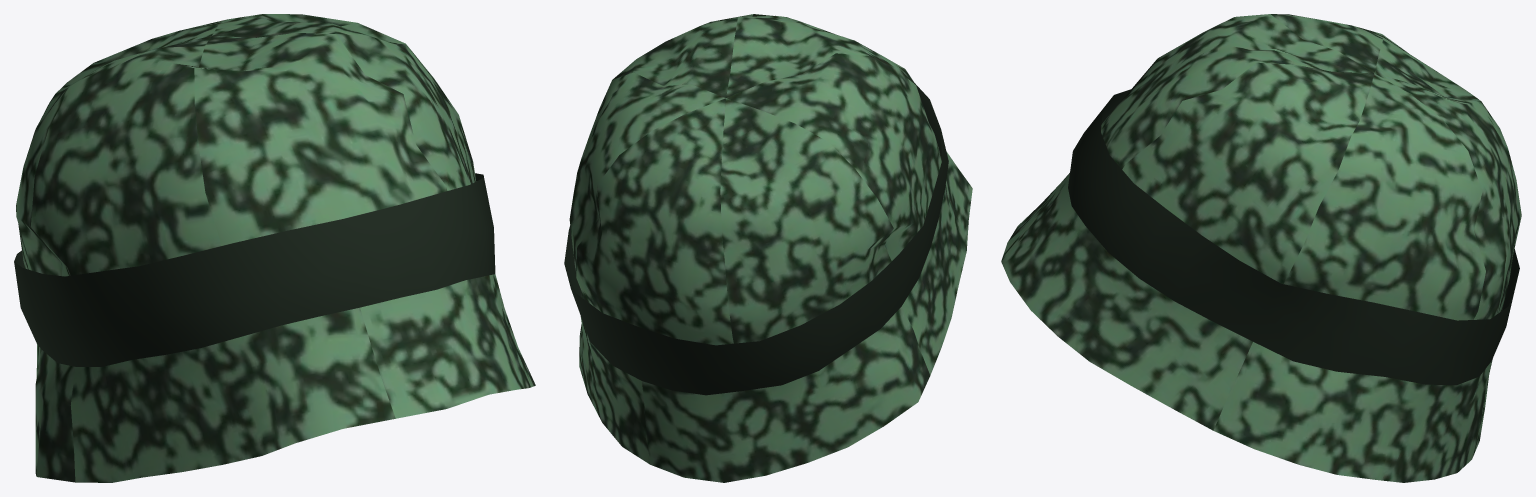
Rendered from aethelraed-unraed-cloche-hat.glb.
3 views of the same model, side by side, from view 1: azimuth 30°, elevation 25°; view 2: azimuth 150°, elevation 25°; view 3: azimuth 270°, elevation 25° (orthographic). The views are drawn at different scales.
Visible parts, largest first — view 1: Human.aethelraed_unraed_cloche_hat; view 2: Human.aethelraed_unraed_cloche_hat; view 3: Human.aethelraed_unraed_cloche_hat.
Boxes of the visible parts, x1=… form: Human.aethelraed_unraed_cloche_hat: x1=14, y1=14, x2=535, y2=482; Human.aethelraed_unraed_cloche_hat: x1=564, y1=14, x2=972, y2=482; Human.aethelraed_unraed_cloche_hat: x1=1001, y1=14, x2=1521, y2=482.
Size of the model in its own units: 0.1785 by 0.1867 by 0.2179.
1 material, 1 textured.
